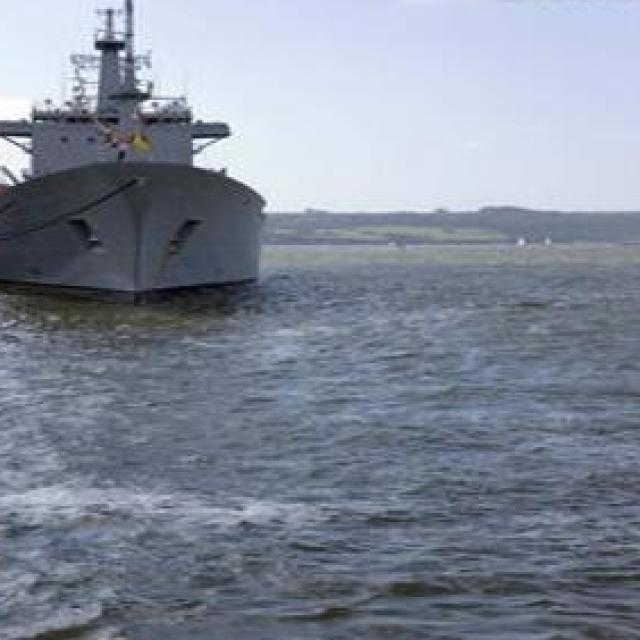navalvessels: (0, 21, 293, 304)
